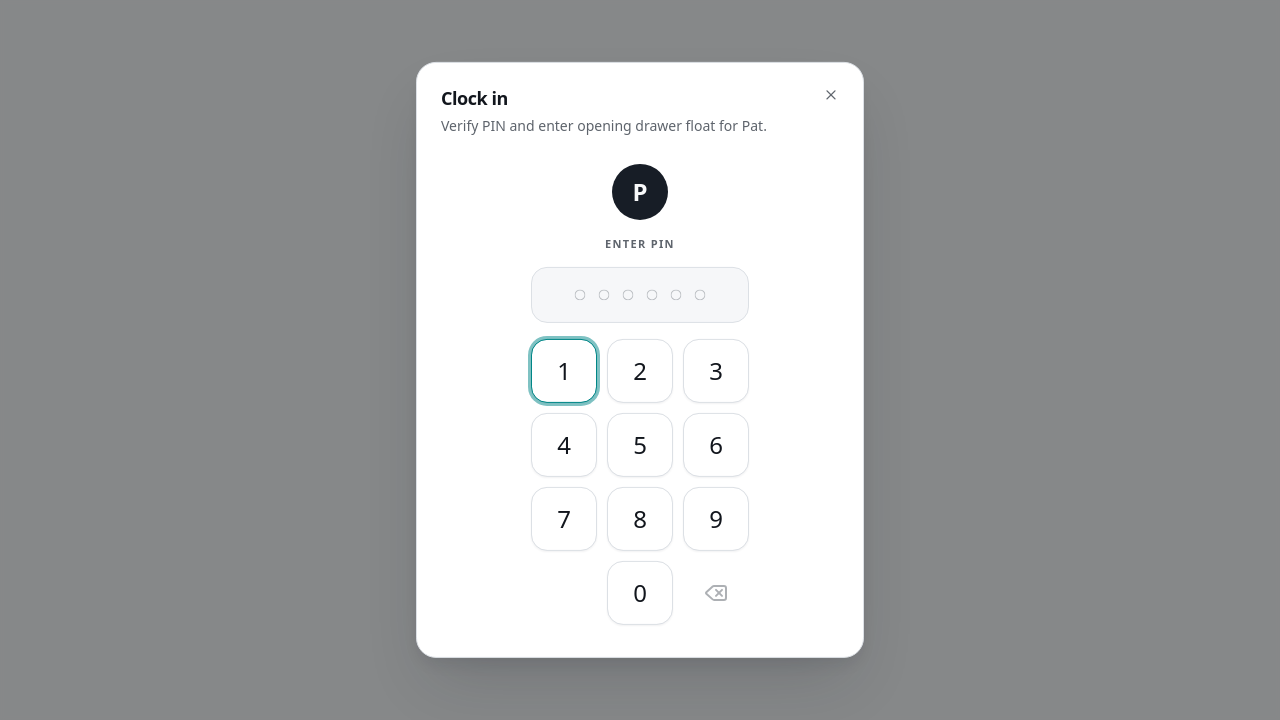
Scenario: ClockInModal › shows PIN error on wrong PIN, verifying against the server for this staff member only
Click the button "9": click(716, 519) x1=683 y1=487 x2=749 y2=551
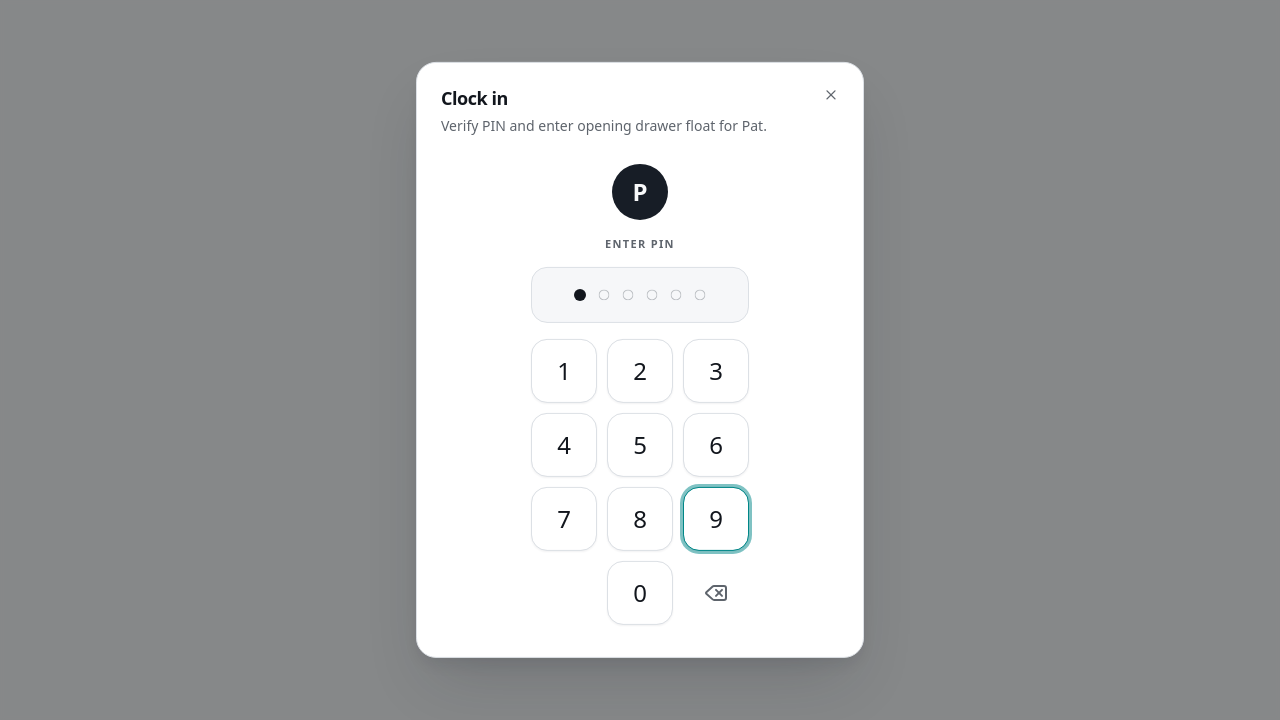
Click the button "9": click(716, 519) x1=683 y1=487 x2=749 y2=551
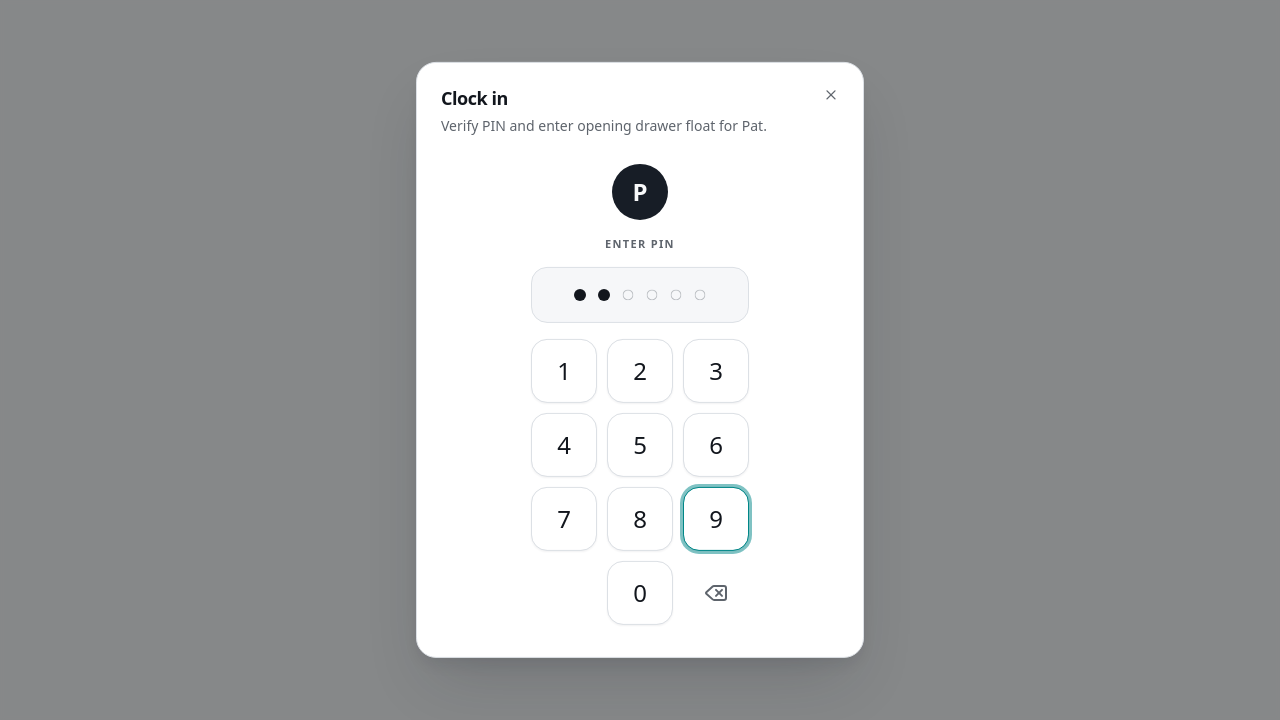
Click the button "9": click(716, 519) x1=683 y1=487 x2=749 y2=551
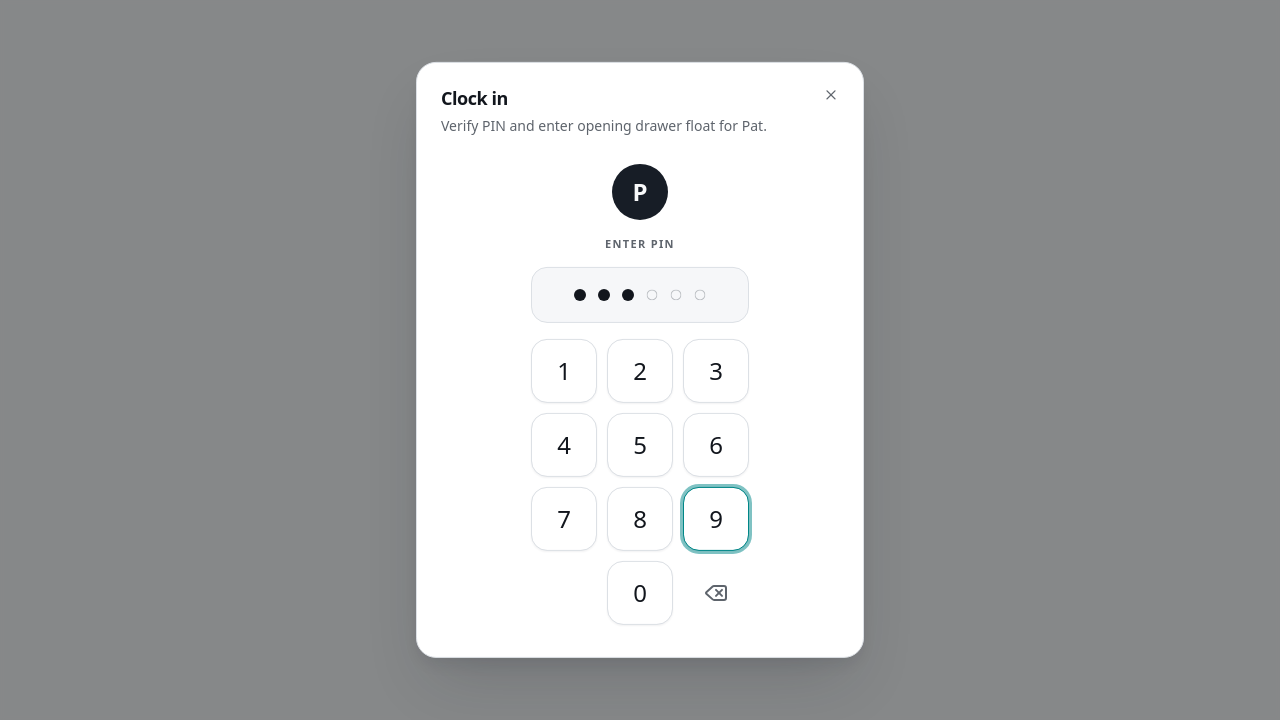
Click the button "9": click(716, 519) x1=683 y1=487 x2=749 y2=551
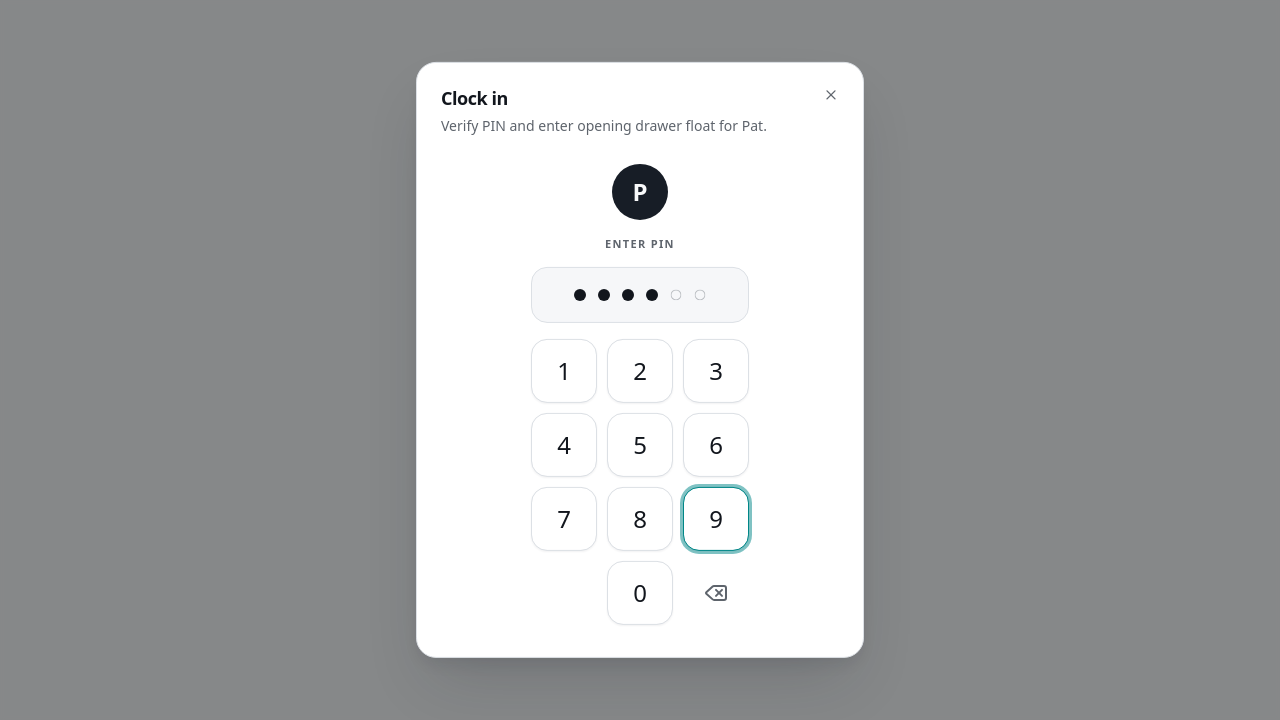
Click the button "9": click(716, 519) x1=683 y1=487 x2=749 y2=551
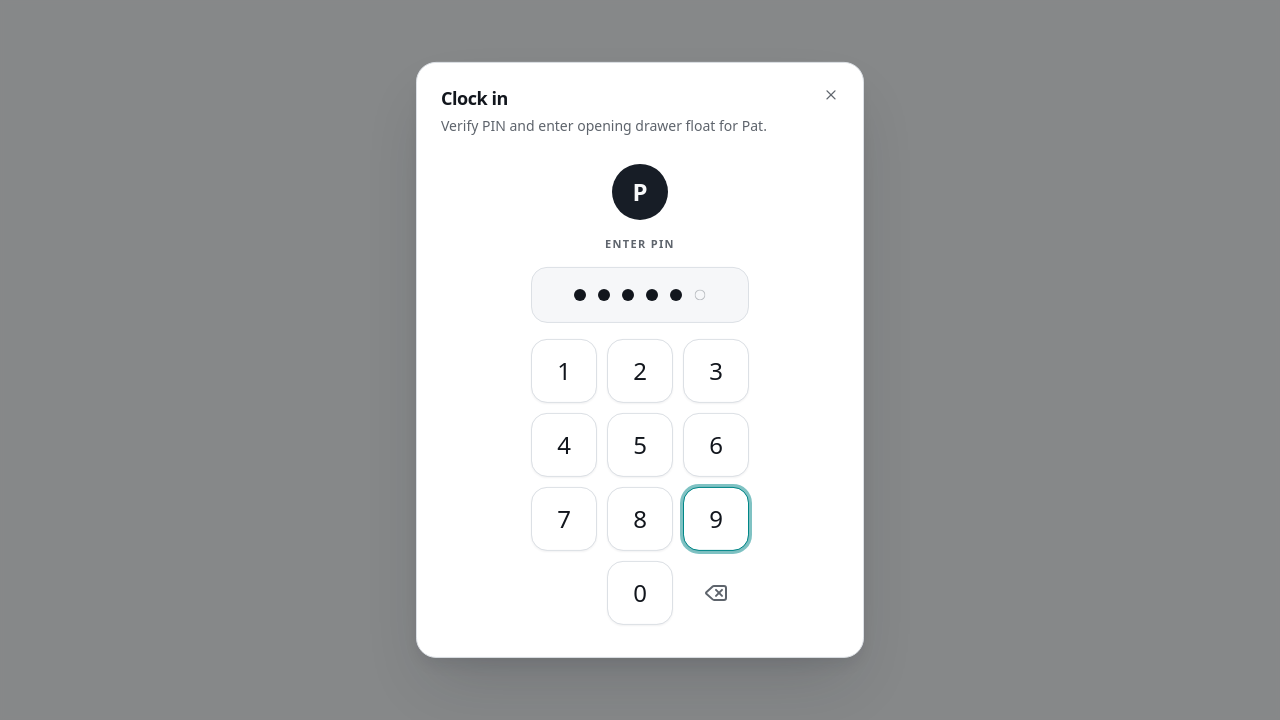
Click the button "9": click(716, 519) x1=683 y1=487 x2=749 y2=551
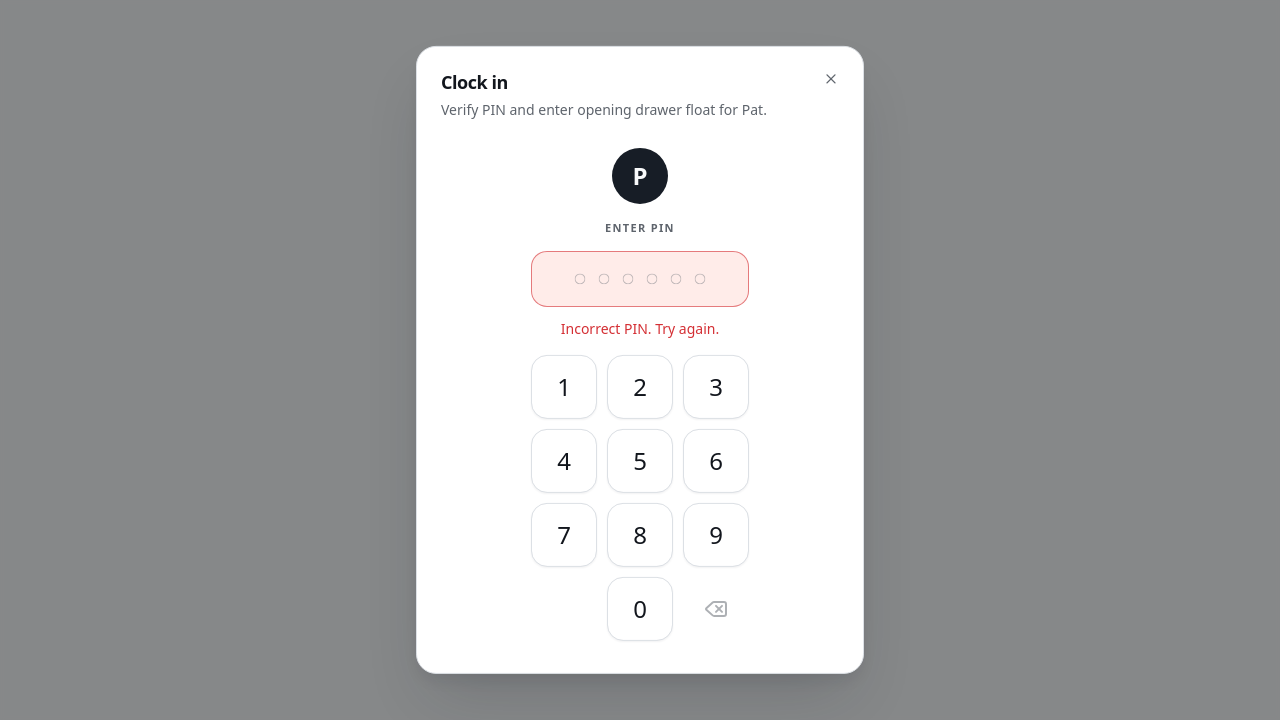
Check: the text "Incorrect PIN. Try again." is shown, box x1=561 y1=319 x2=719 y2=338
